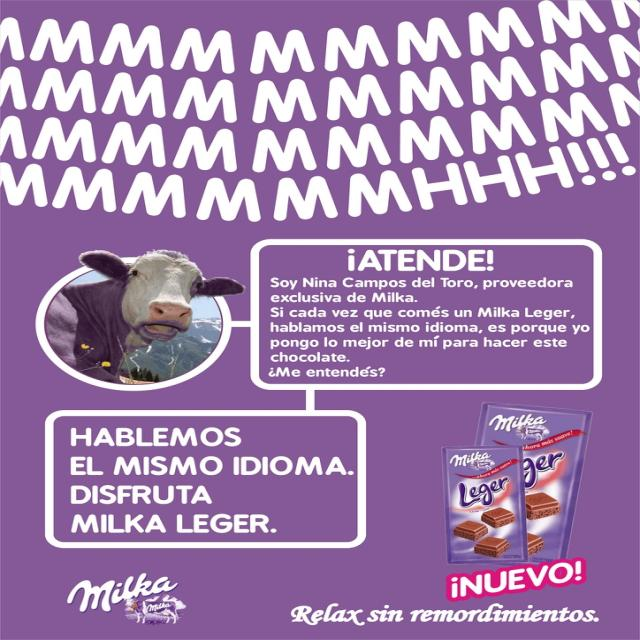milka: (61, 570, 188, 637), (486, 411, 554, 443), (448, 451, 499, 473)
